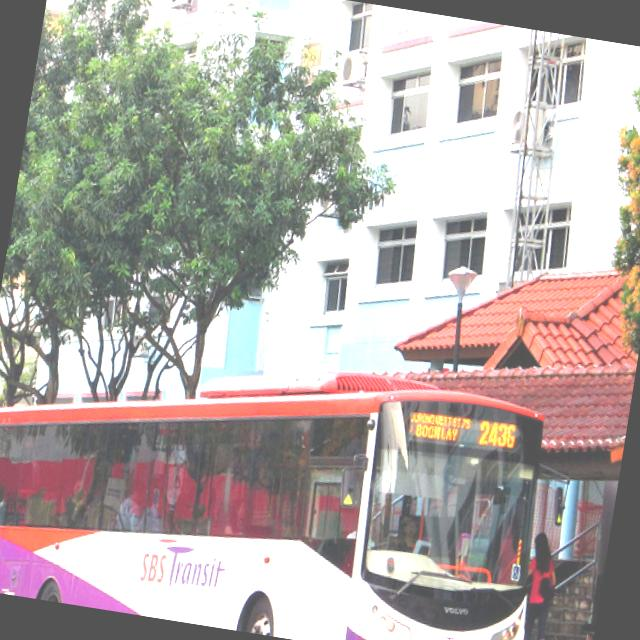Vehicle: (0, 318, 568, 640)
